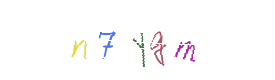7: (79, 0, 159, 80)
G: (101, 0, 181, 80)
M: (132, 0, 212, 80)
N: (67, 0, 147, 80)
Y: (97, 0, 177, 80)
